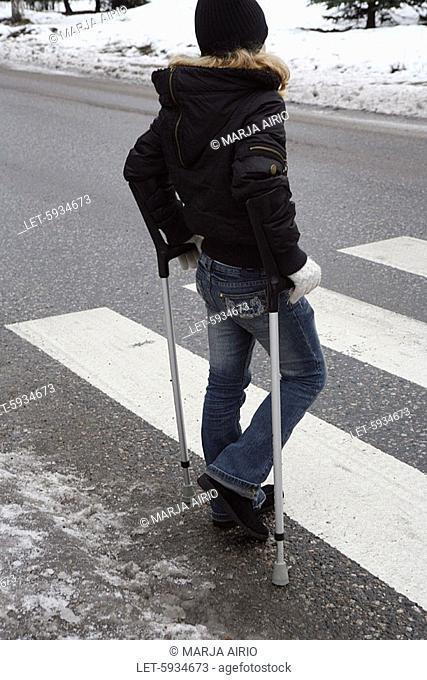crutches: (124, 0, 327, 586)
